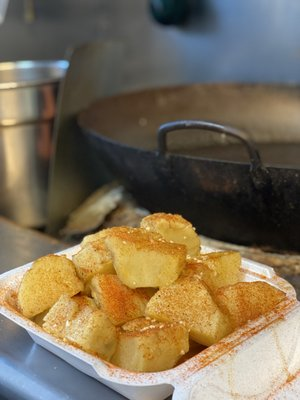sushi: (2, 210, 299, 400), (75, 84, 300, 251)
